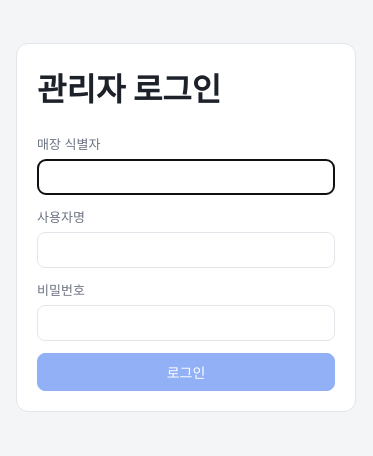
LoginPage › surfaces the server error message on failure (BR-FA04)
Type "cafe1" into the field labelled "매장 식별자" at (186, 176), box [37,158,335,194]
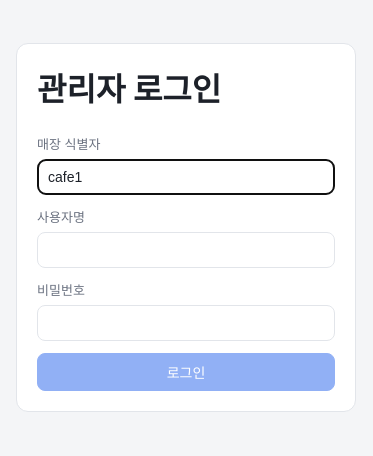
Type "owner" into the field labelled "사용자명" at (186, 250), box [37,232,335,268]
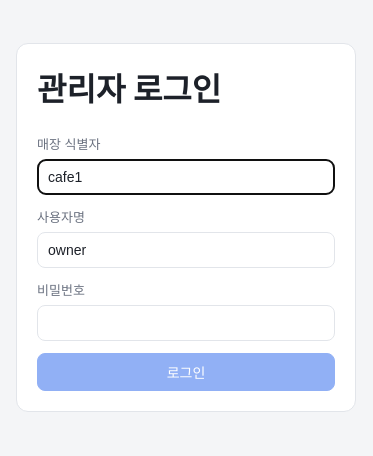
Type "longenough" into the password field labelled "비밀번호" at (186, 322), box [37,304,335,340]
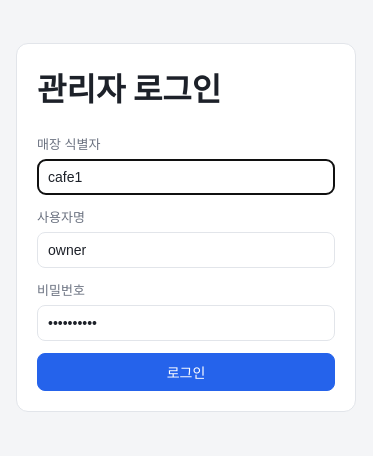
Click the button "로그인" at (186, 372), box [37,352,335,390]
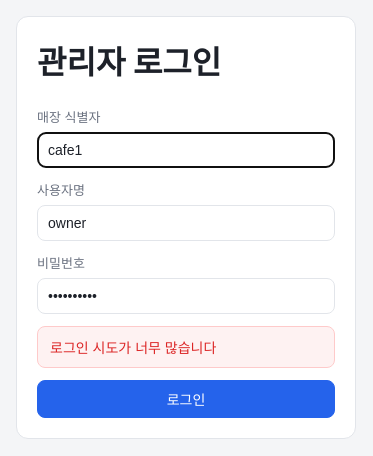
Now the message reads "로그인 시도가 너무 많습니다", box [50,338,216,356]
